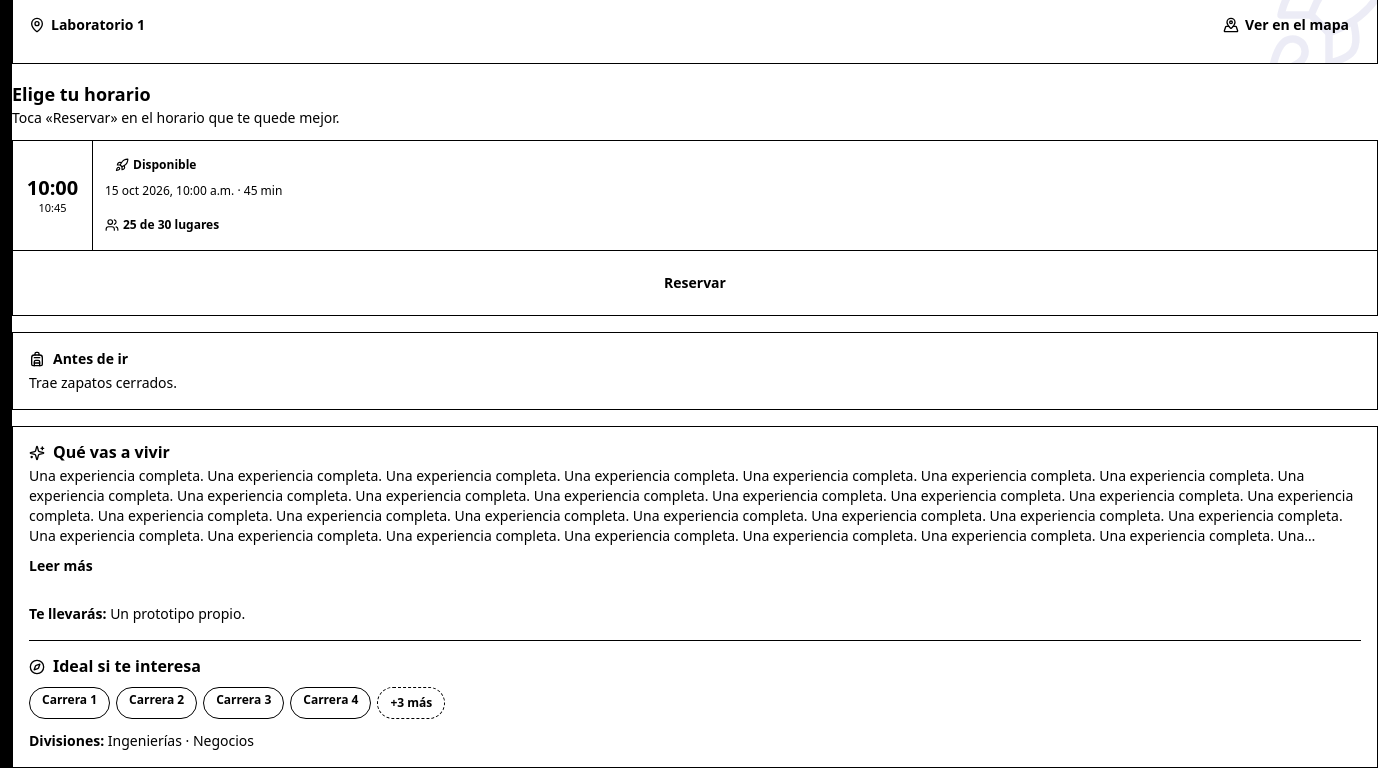
nothing academic is removed: objective, takeaway, every career and the divisions are all still there
The image size is (1378, 768).
(page scrolled)
expect the text "Una experiencia completa." is shown: met, box top-left (29, 466), bottom-right (1353, 565)
expect the text "Te llevarás: Un prototipo propio." is shown: met, box top-left (29, 604), bottom-right (245, 623)
Click the button "+3 más" at (411, 703), box top-left (377, 687), bottom-right (445, 719)
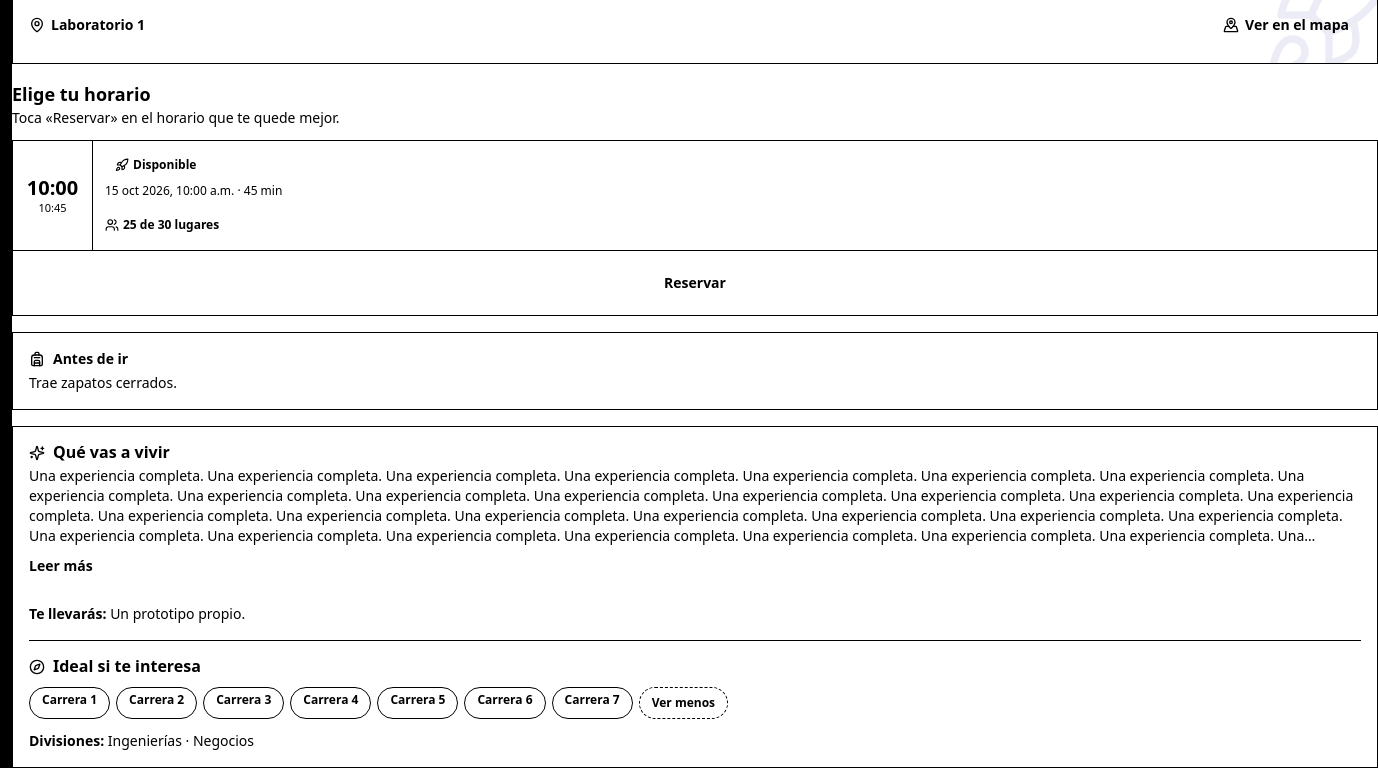
expect the list item "Carrera 7" is shown: met, box top-left (552, 687), bottom-right (633, 719)
expect the button "Ver menos" is expanded: met, box top-left (639, 687), bottom-right (728, 719)
